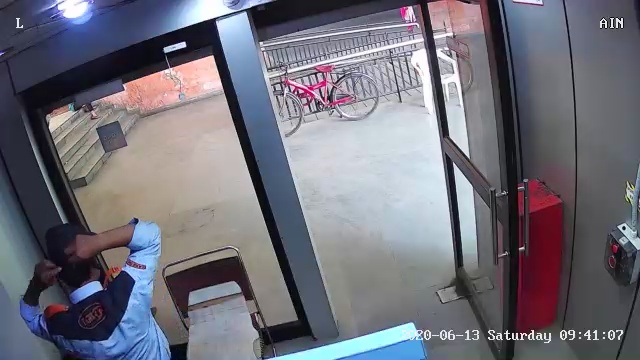open: (404, 3, 552, 352)
